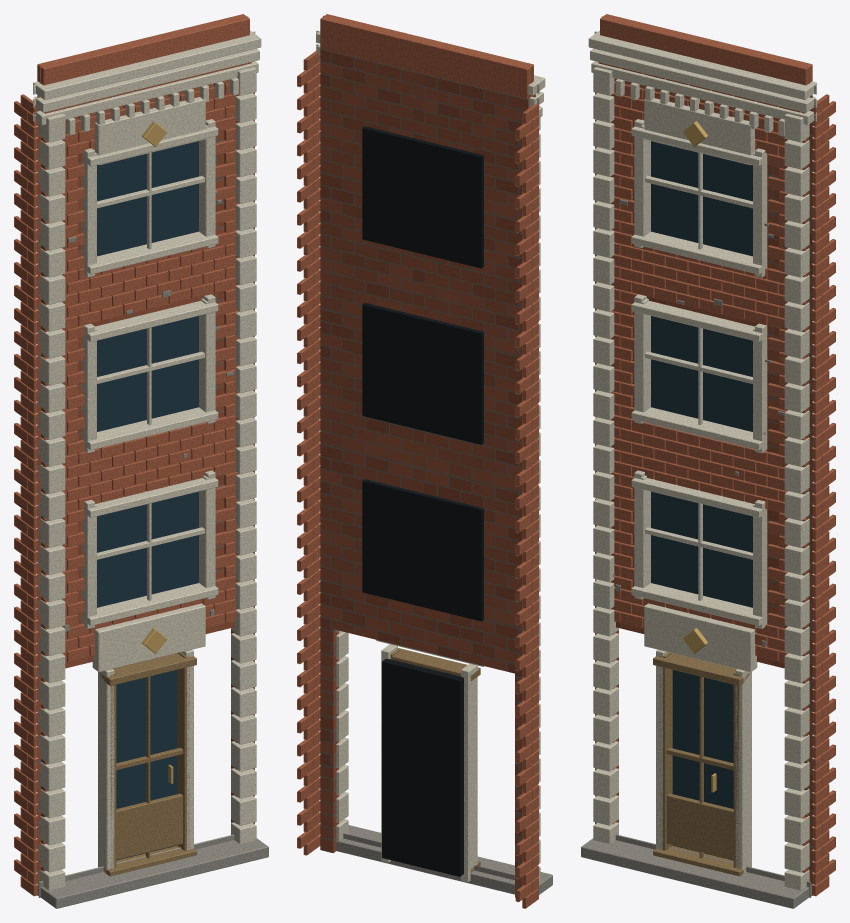
The model's file is OFFC16_lod0.glb.
The picture shows the model from 3 angles, left to right: view 1: azimuth 30°, elevation 25°; view 2: azimuth 150°, elevation 25°; view 3: azimuth 330°, elevation 25°; orthographic projection.
Parts seen in each view (by area): view 1: OFFC16_FRONT_LOD0; view 2: OFFC16_FRONT_LOD0; view 3: OFFC16_FRONT_LOD0.
Boxes of the visible parts, x1,y1,x2,y2 form: OFFC16_FRONT_LOD0: [14, 14, 268, 908]; OFFC16_FRONT_LOD0: [297, 14, 552, 908]; OFFC16_FRONT_LOD0: [581, 14, 835, 908].
Size of the model in its own units: 3.44 by 12.26 by 1.02.
Materials: 11 (8 with a texture image).
